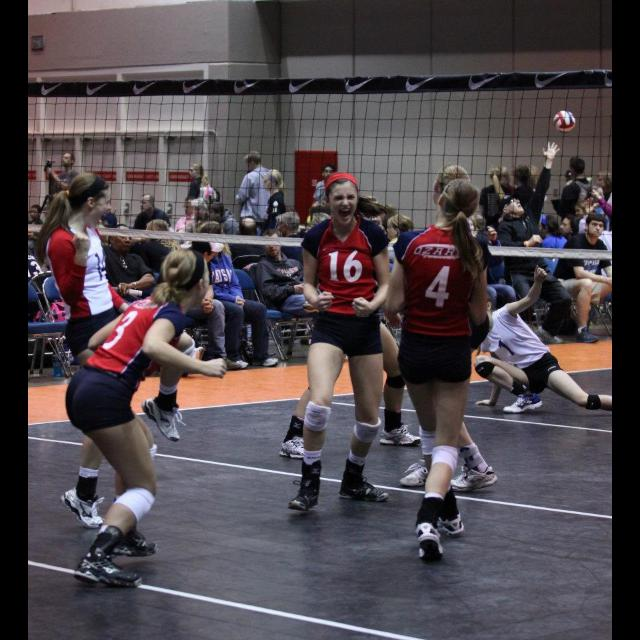head: (162, 248, 214, 310), (68, 173, 112, 229), (438, 181, 480, 225), (326, 176, 360, 228), (433, 166, 469, 208), (351, 202, 383, 242), (465, 290, 493, 318), (110, 223, 134, 254), (190, 240, 213, 268), (262, 229, 284, 257), (498, 195, 526, 217), (143, 221, 167, 245), (201, 222, 223, 248), (539, 214, 561, 238), (586, 213, 606, 237), (262, 171, 282, 193), (510, 166, 530, 187), (245, 152, 262, 172), (570, 158, 586, 178), (140, 194, 156, 212), (62, 152, 76, 168), (190, 164, 204, 180), (491, 168, 504, 184), (322, 166, 336, 180), (31, 206, 43, 220)
person: (29, 170, 202, 536), (62, 240, 230, 592), (381, 173, 497, 564), (266, 197, 432, 457), (381, 162, 502, 496), (286, 164, 396, 516), (494, 137, 576, 347), (253, 226, 377, 360), (88, 222, 182, 378), (189, 218, 281, 372), (158, 235, 245, 378), (120, 216, 192, 334), (484, 162, 544, 300), (514, 210, 576, 326), (232, 148, 280, 294), (551, 154, 605, 278), (477, 163, 525, 297), (128, 191, 178, 309), (302, 162, 348, 262), (182, 160, 224, 264), (43, 150, 85, 252), (258, 165, 290, 291), (28, 202, 52, 264)
